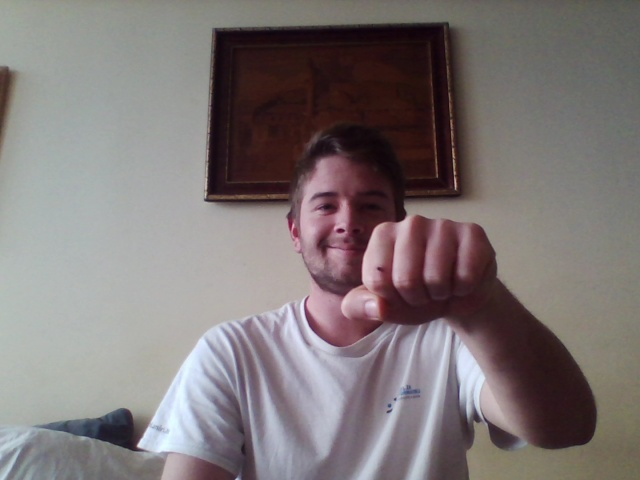da: (342, 214, 497, 328)
